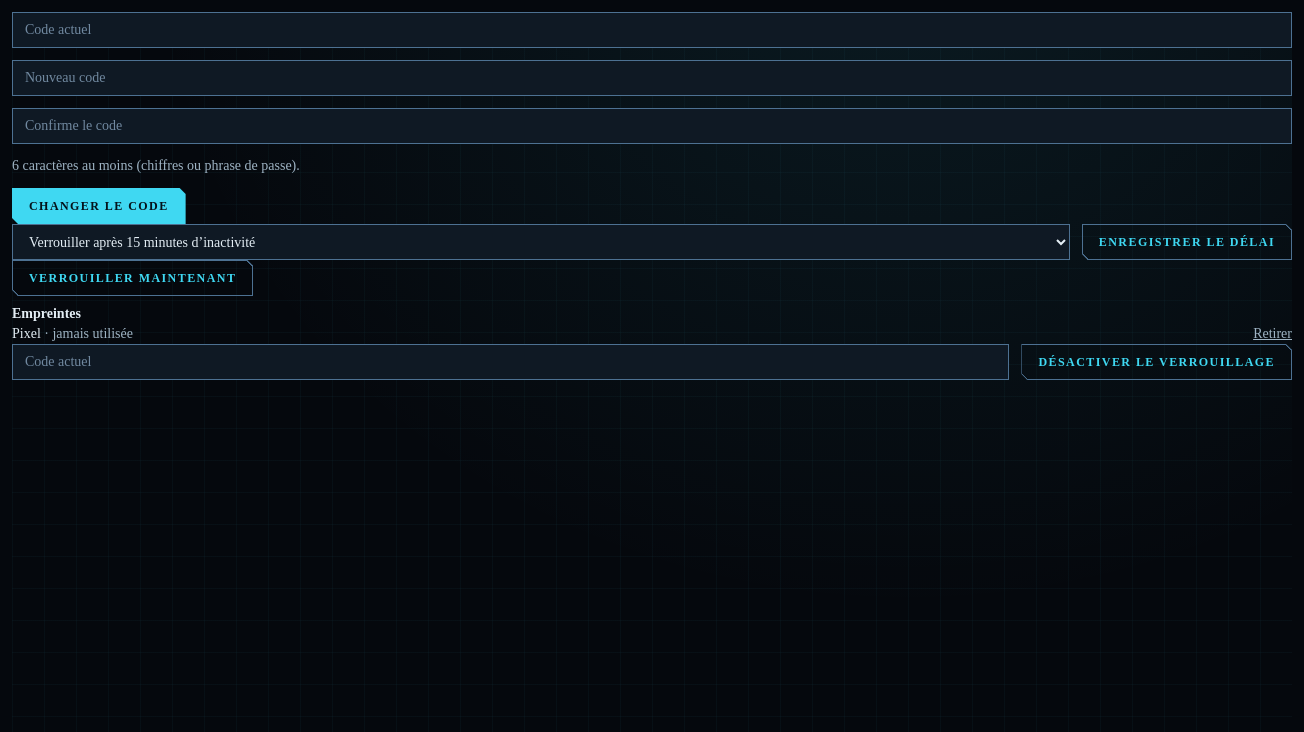
LockForms : actions › messages d’erreur : temporisation, code actuel faux, code inconnu
Type "x" into the password field named "Code actuel pour désactiver" at (511, 362), box [12,344,1009,380]
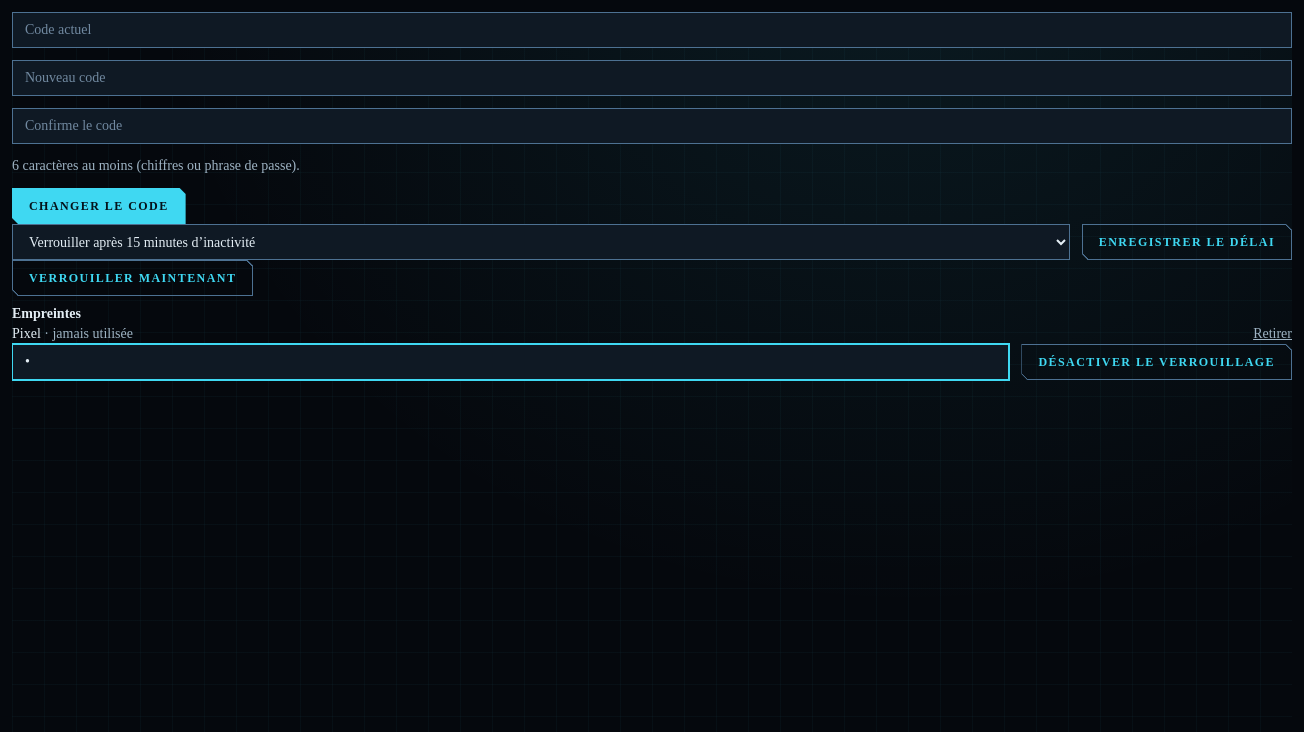
Click the button "Désactiver le verrouillage" at (1157, 362), box [1021,344,1292,380]
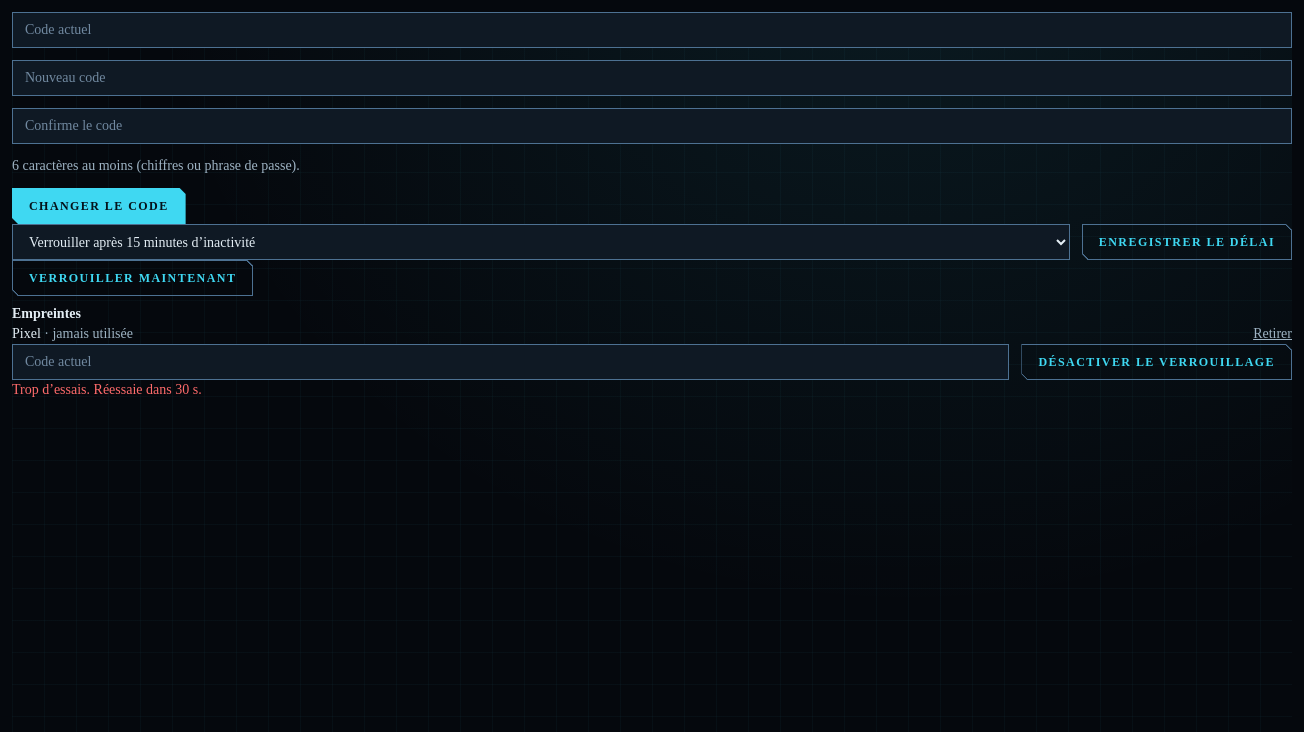
Now the message reads "Trop d’essais. Réessaie dans 30 s.", box [12,382,202,397]
Type "x" into the password field named "Code actuel pour désactiver" at (511, 362), box [12,344,1009,380]
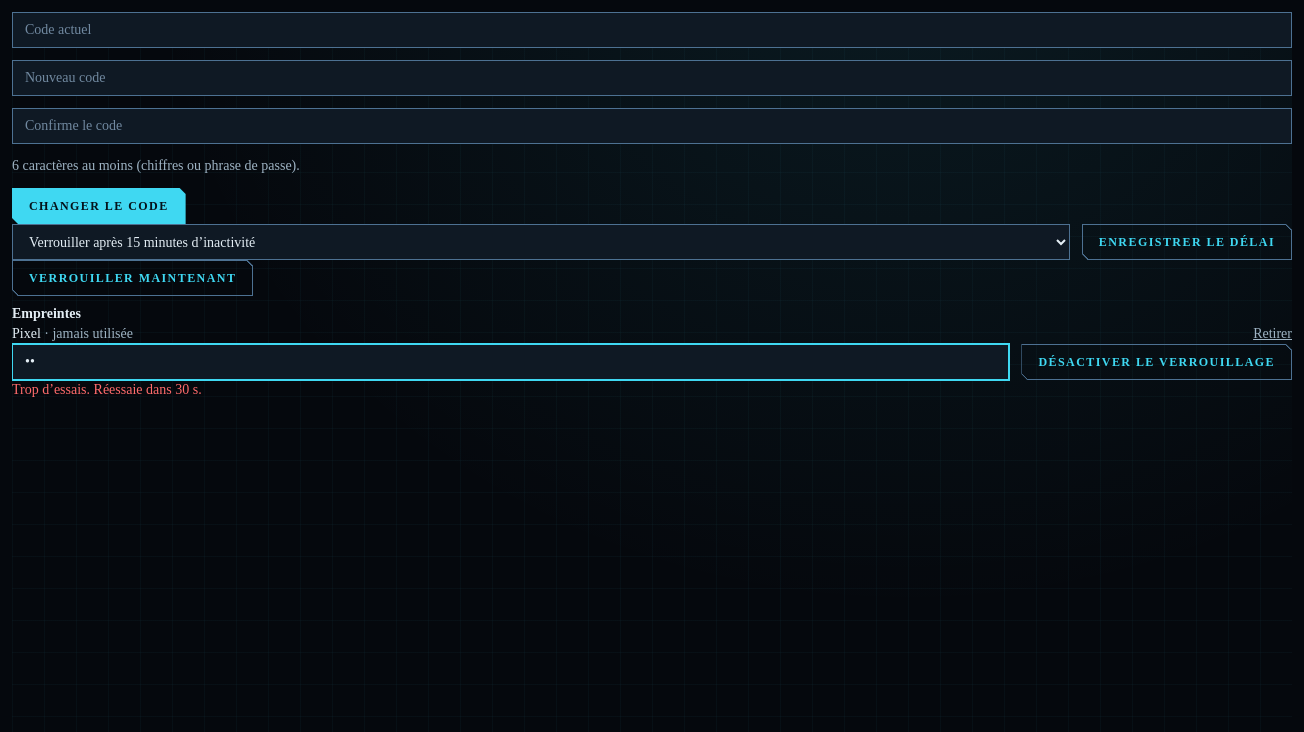
Click the button "Désactiver le verrouillage" at (1157, 362), box [1021,344,1292,380]
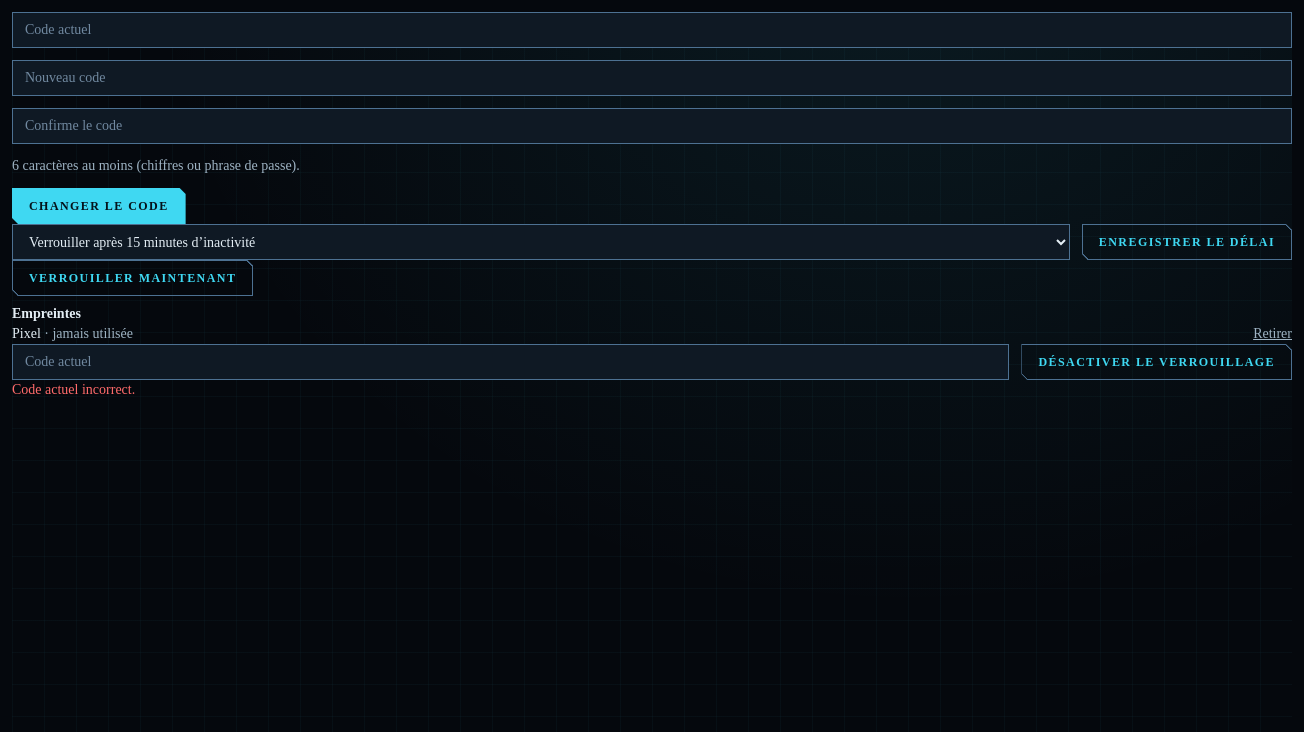
Now the text "Code actuel incorrect." is shown, box [12,382,135,397]
Type "x" into the password field named "Code actuel pour désactiver" at (511, 362), box [12,344,1009,380]
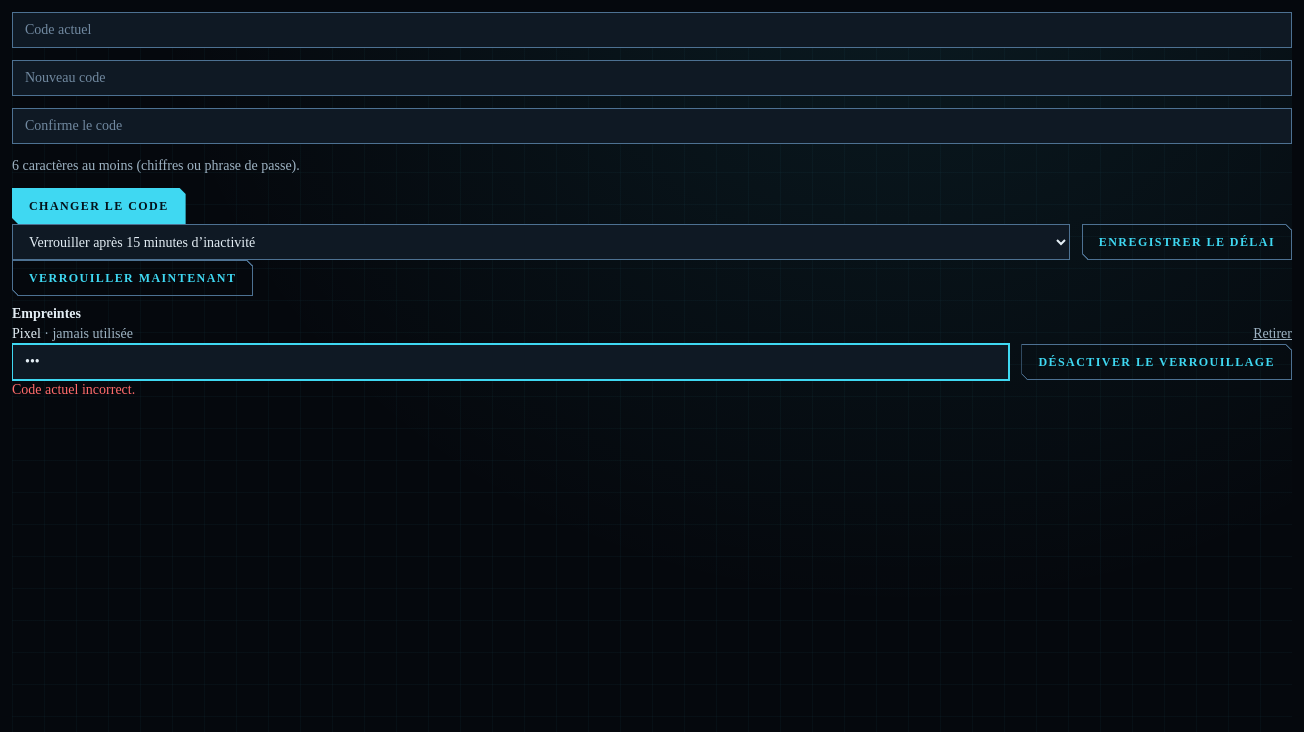
Click the button "Désactiver le verrouillage" at (1157, 362), box [1021,344,1292,380]
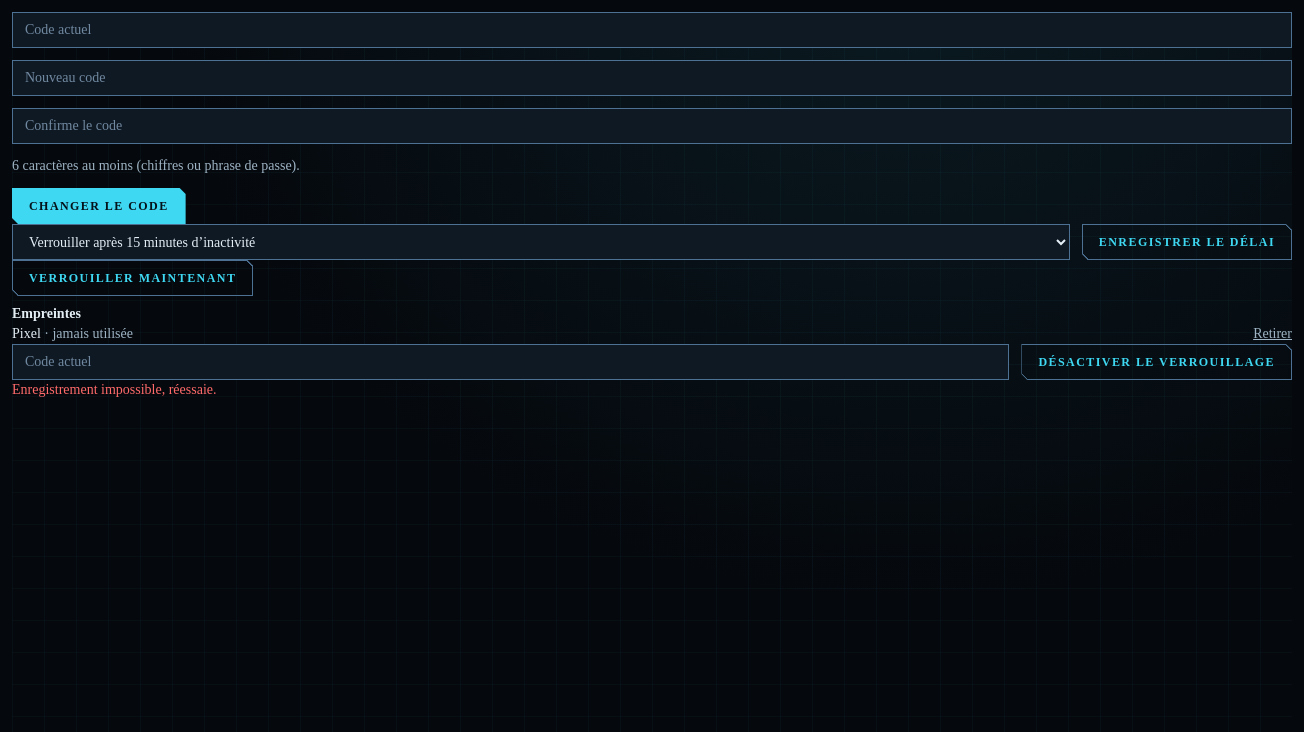
Now the text "Enregistrement impossible, réessaie." is shown, box [12,382,216,397]
